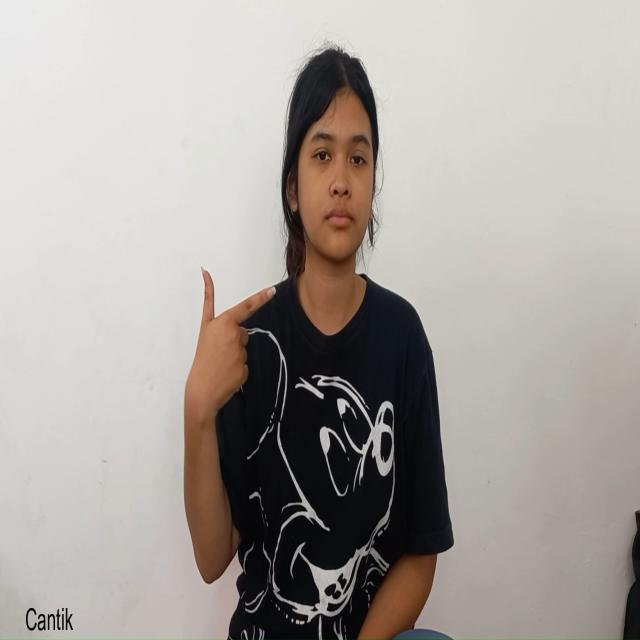Cantik -BISINDO-: (184, 48, 379, 430)
